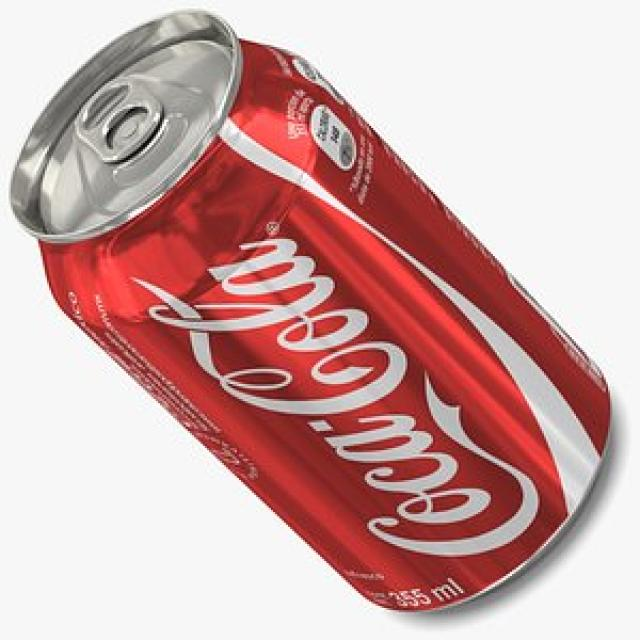cocacola: (20, 12, 604, 616)
